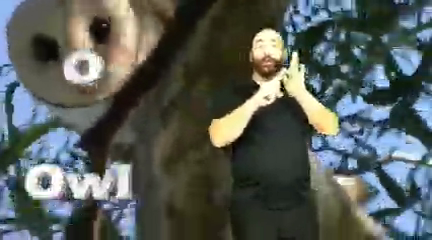O: (241, 47, 318, 111)
